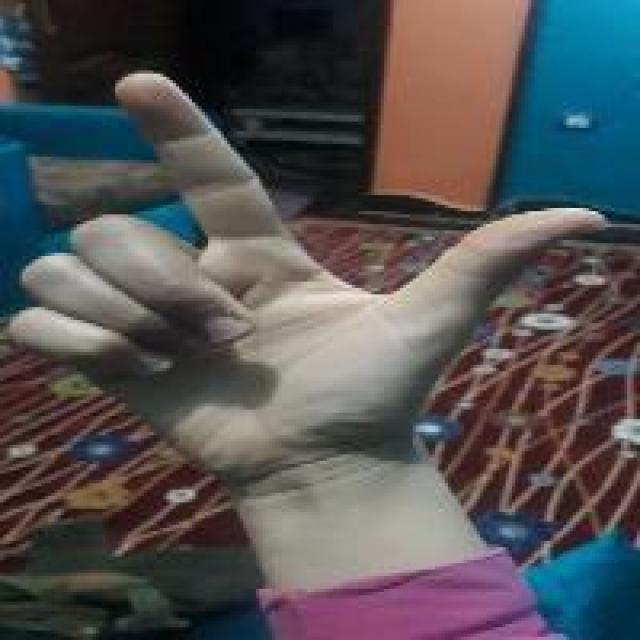L: (11, 56, 610, 459)
